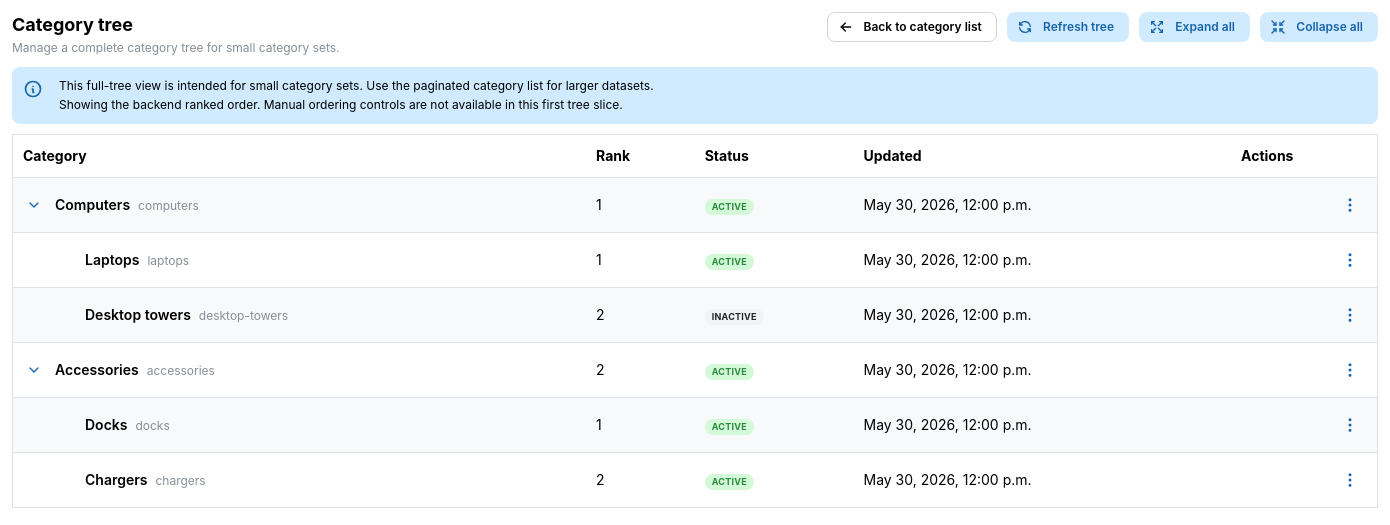
Test: SmallCategoryTreePage row actions › hides move independently from unrelated row actions
What coordinates should you click on to do the following:
click the button named "More actions for Laptops"
I would click on:
 (1350, 260)
Its box is [1333,243,1367,277].
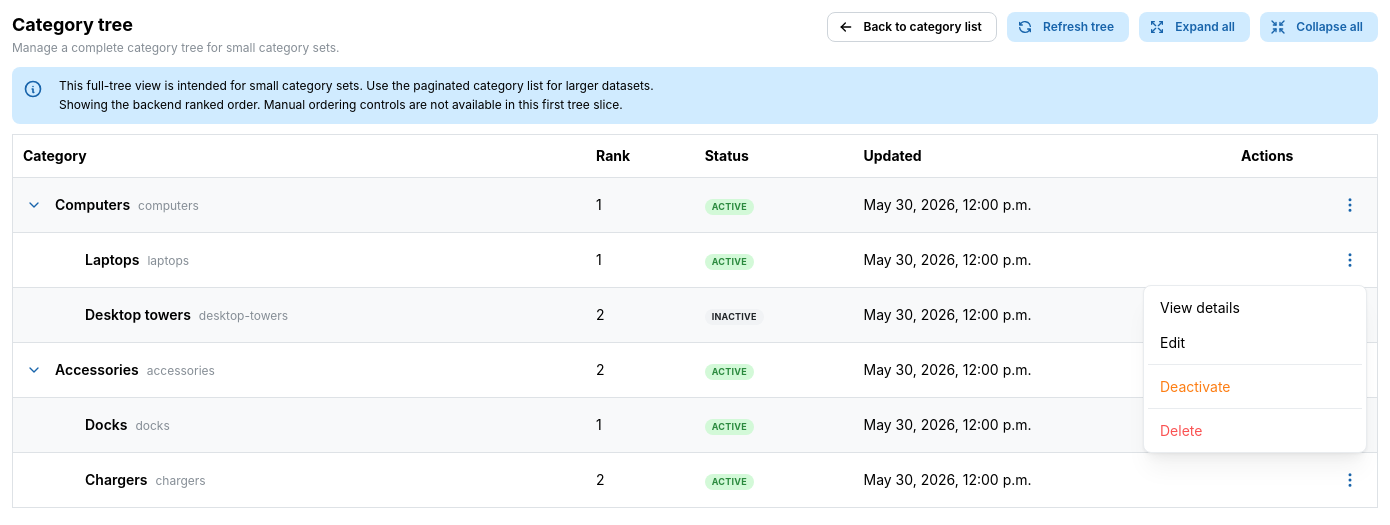
Expected: the menu item "View details" is shown, [1160,299,1240,316]
Expected: the menu item "Edit" is shown, [1160,334,1185,351]
Expected: the menu item "Deactivate" is shown, [1148,369,1362,404]
